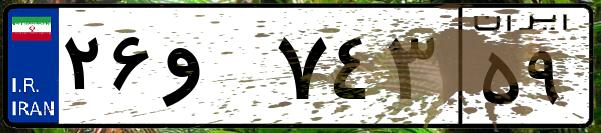2: (57, 26, 110, 100)
3: (385, 28, 445, 110)
4: (330, 28, 385, 110)
5: (475, 38, 525, 113)
6: (110, 28, 158, 98)
7: (270, 28, 330, 110)
9: (525, 38, 570, 115)
و: (158, 20, 270, 120)
